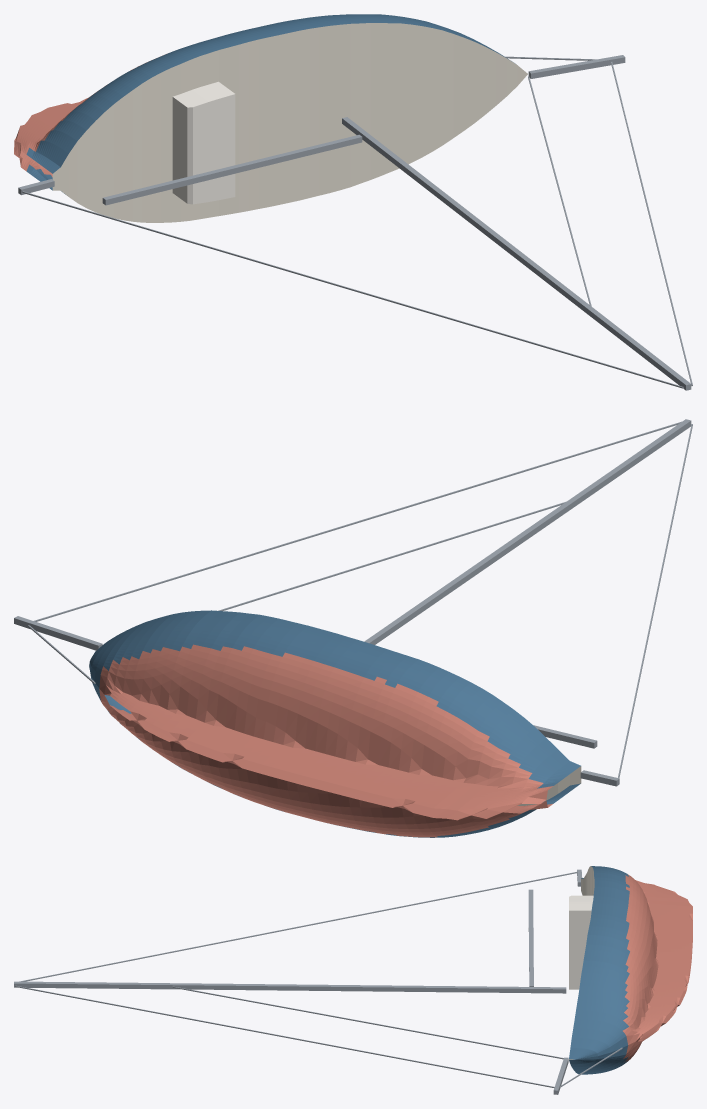
The model's file is westsail-32-lines.glb.
3 views of the same model, one above another, from view 1: azimuth 30°, elevation 25°; view 2: azimuth 150°, elevation 25°; view 3: azimuth 270°, elevation 25° (orthographic). The views are drawn at different scales.
Parts seen in each view (by area): view 1: Westsail 32; view 2: Westsail 32; view 3: Westsail 32.
Boxes of the visible parts, x1,y1,x2,y2 form: Westsail 32: (14,14,692,390); Westsail 32: (14,419,692,837); Westsail 32: (14,866,692,1094).
Size of the model in its own units: 2.52 by 0.694 by 3.27.
